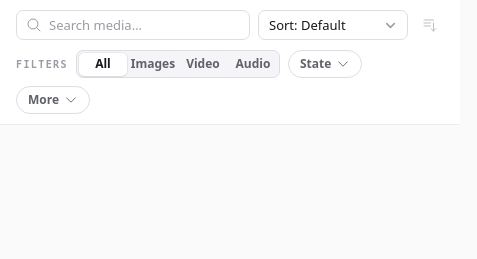
Test: FilterToolbar Component › surfaces an active Base64 filter as a removable chip
Click the button "More". click: (53, 100)
box: 16,86 -> 90,114
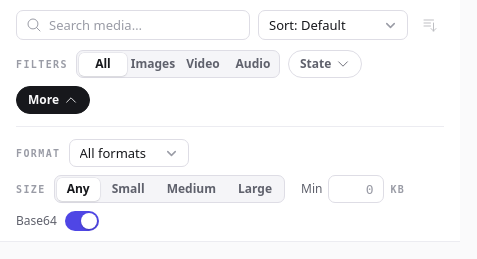
Click the switch named "base64". click: (82, 221)
box: 65,211 -> 99,231
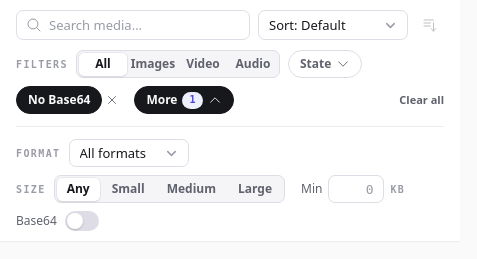
Expected: the button named "Remove Base64 filter" is shown, 98,86 -> 126,114
